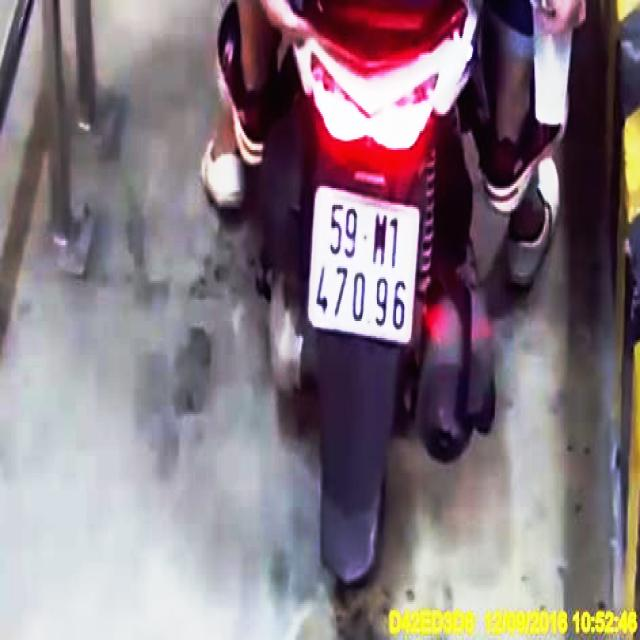license_plate: (309, 189, 422, 350)
